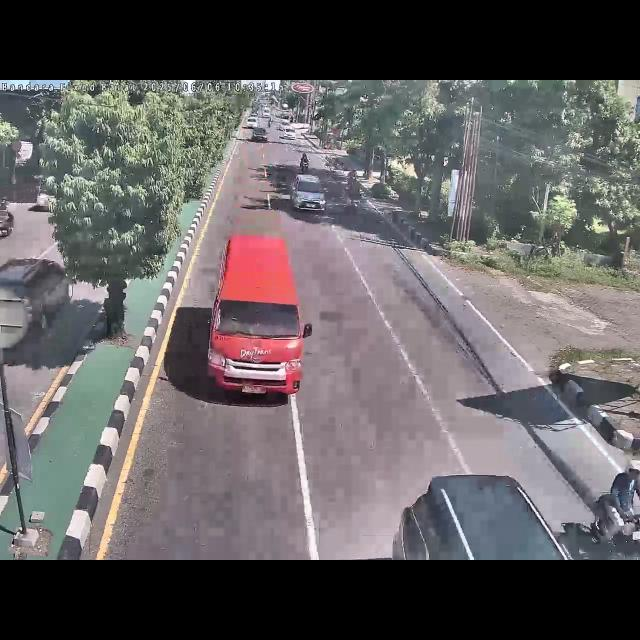Mobil: (392, 472, 572, 560), (208, 234, 300, 396), (290, 171, 328, 215)
Motor: (588, 452, 640, 560), (342, 166, 366, 222), (297, 150, 311, 178)
